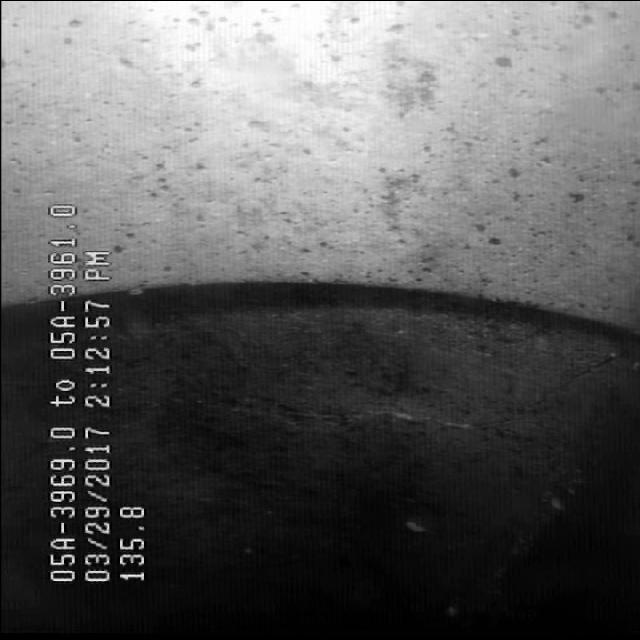Crack: (181, 356, 611, 460)
